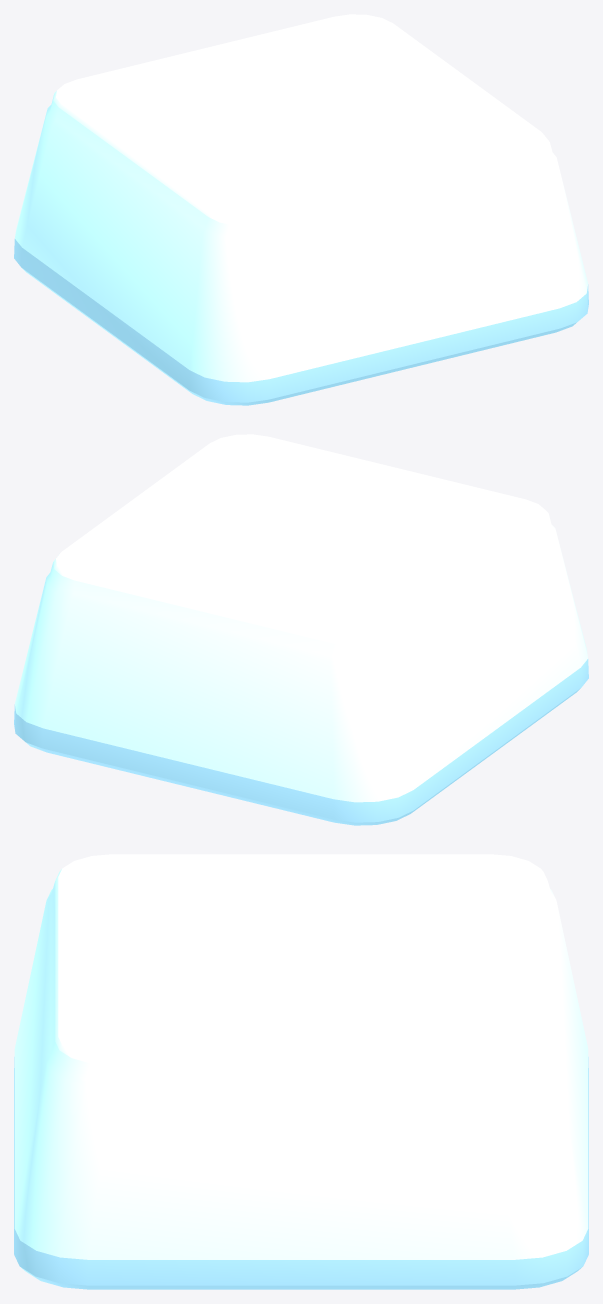
File: props__KeyBlank.glb
The picture shows the model from 3 angles, top to bottom: view 1: azimuth 30°, elevation 25°; view 2: azimuth 150°, elevation 25°; view 3: azimuth 270°, elevation 25°; orthographic projection. The views are drawn at different scales.
Visible parts, largest first — view 1: KeyBlank; view 2: KeyBlank; view 3: KeyBlank.
Boxes of the visible parts, bbox=[...] form: KeyBlank: bbox=[14, 14, 588, 405]; KeyBlank: bbox=[14, 434, 588, 825]; KeyBlank: bbox=[14, 854, 588, 1289].
Bounding box in the file's own units: 3.9 × 1.6 × 3.9.
